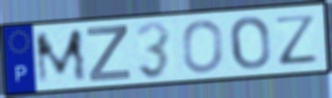3: (134, 19, 176, 81)
M: (33, 27, 90, 87)
O: (229, 15, 273, 72), (181, 18, 225, 75)
Z: (85, 24, 133, 84), (273, 12, 320, 67)
